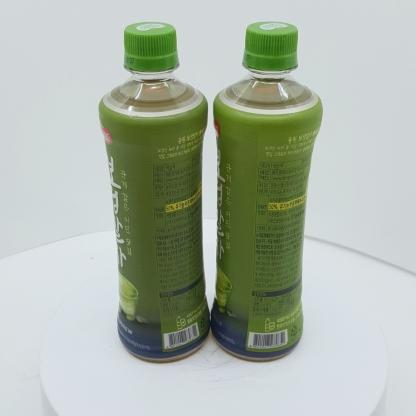------500ML: (210, 21, 323, 362), (98, 22, 210, 364)
